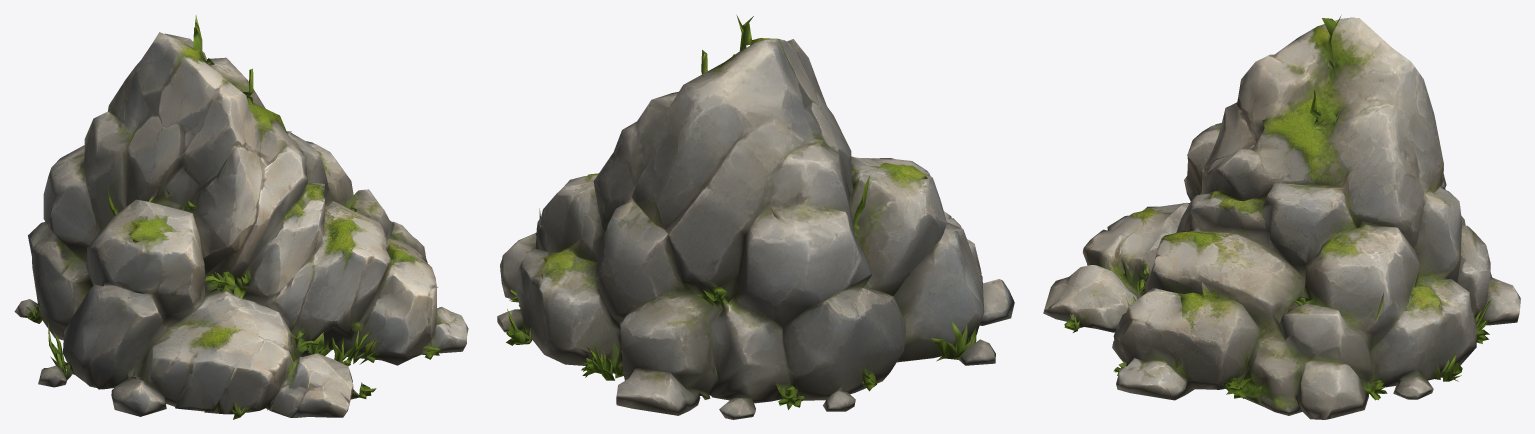
3 views of the same model, side by side, from view 1: azimuth 30°, elevation 25°; view 2: azimuth 150°, elevation 25°; view 3: azimuth 270°, elevation 25° (orthographic). The views are drawn at different scales.
Parts seen in each view (by area): view 1: tripo_node_c25b3166-79e2-4f17-bde5-ff40e5bba02f; view 2: tripo_node_c25b3166-79e2-4f17-bde5-ff40e5bba02f; view 3: tripo_node_c25b3166-79e2-4f17-bde5-ff40e5bba02f.
Boxes of the visible parts, box(x1,y1,x2,y2) form: tripo_node_c25b3166-79e2-4f17-bde5-ff40e5bba02f: box(14, 15, 468, 419); tripo_node_c25b3166-79e2-4f17-bde5-ff40e5bba02f: box(497, 15, 1014, 419); tripo_node_c25b3166-79e2-4f17-bde5-ff40e5bba02f: box(1043, 15, 1520, 419).
Size of the model in its own units: 0.9847 by 0.6699 by 0.9657.
1 material, 1 textured.
